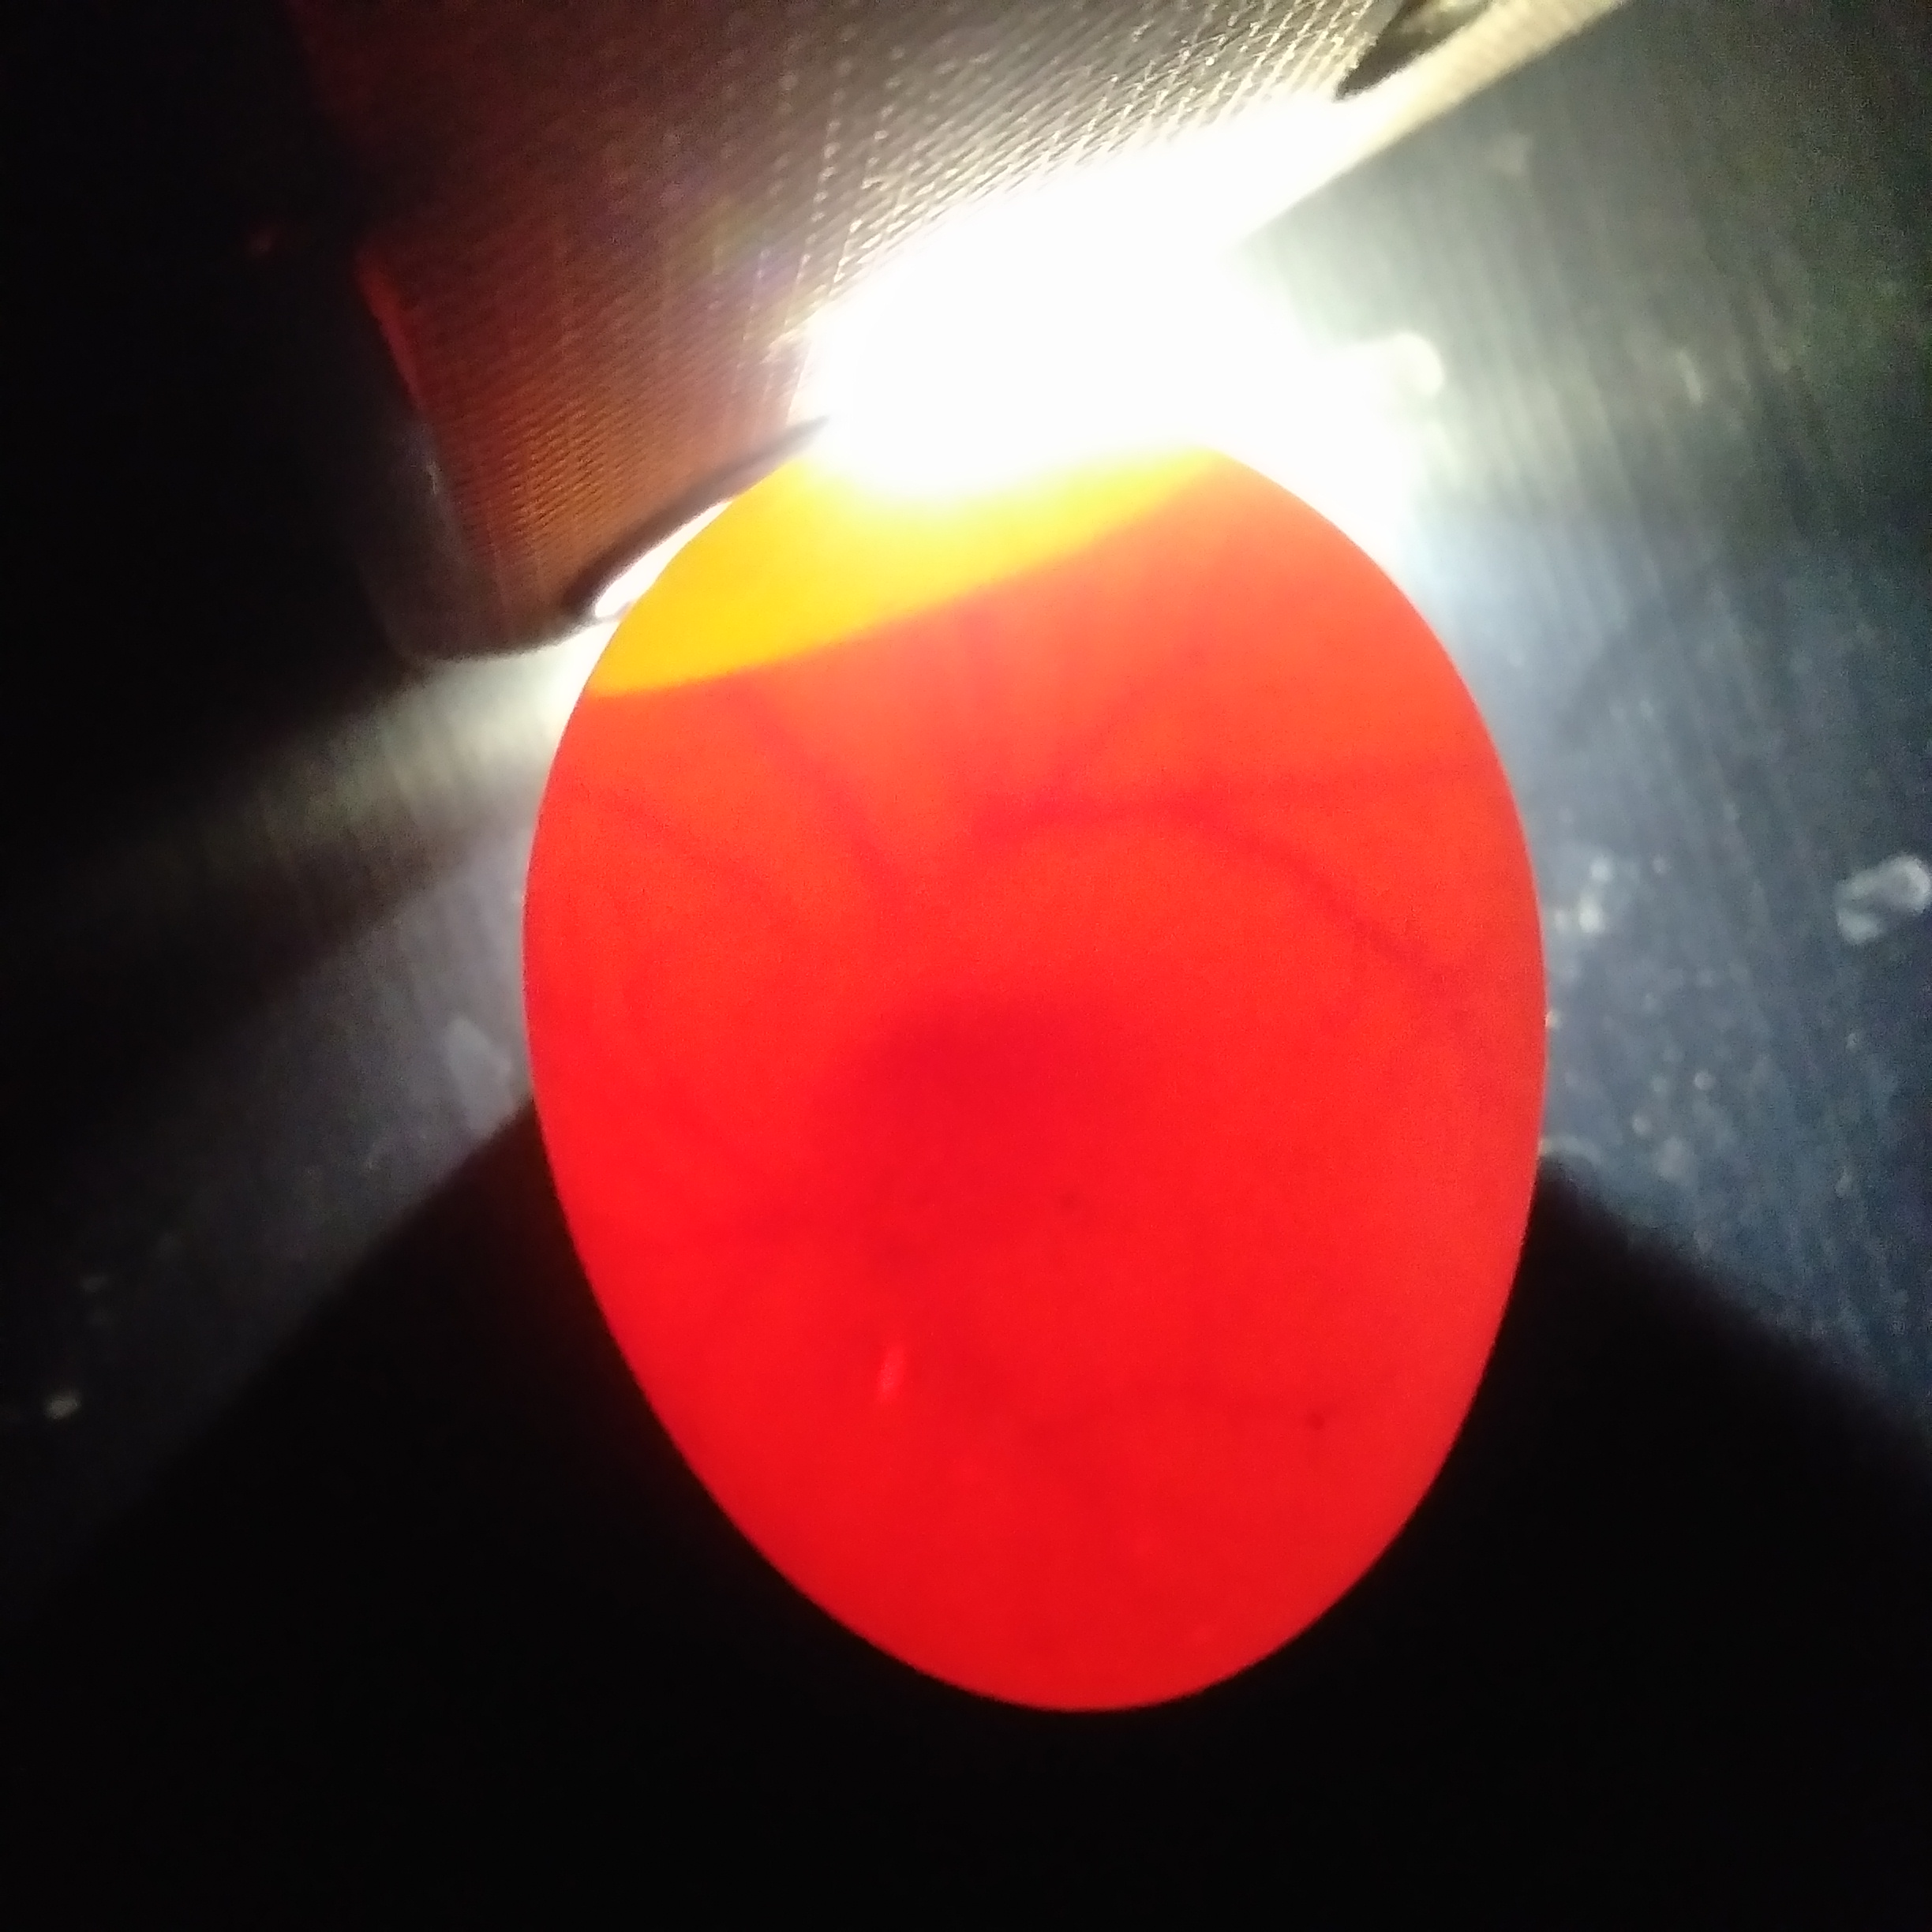bloodcell: (720, 1208, 1355, 1522), (600, 731, 1426, 925)
embryo: (839, 945, 1115, 1169)
